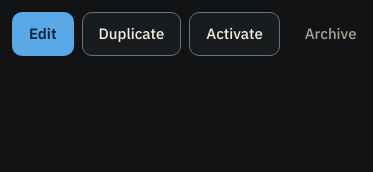
Test case: DrillActions › shows the API's message when an action fails
Click the button with test id "drill-detail-activate": (234, 34) [189,12,280,56]
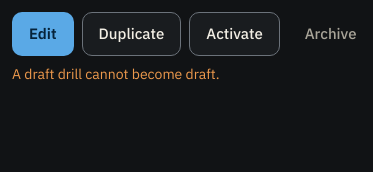
Expected: the message with test id "drill-actions-error" shows "cannot become", [12,65,220,83]
